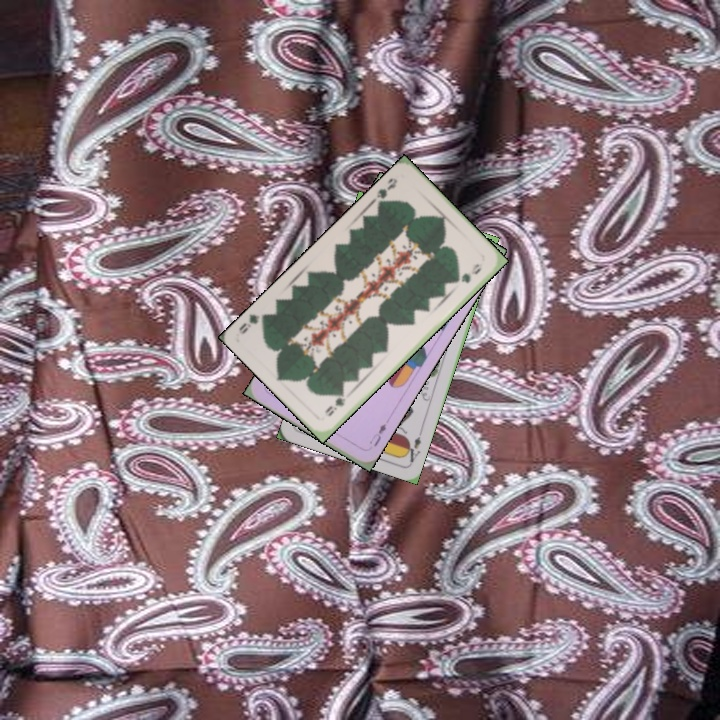EA: (401, 426, 425, 465)
EU: (365, 419, 389, 449)
G9: (373, 174, 400, 208), (321, 388, 349, 419)
